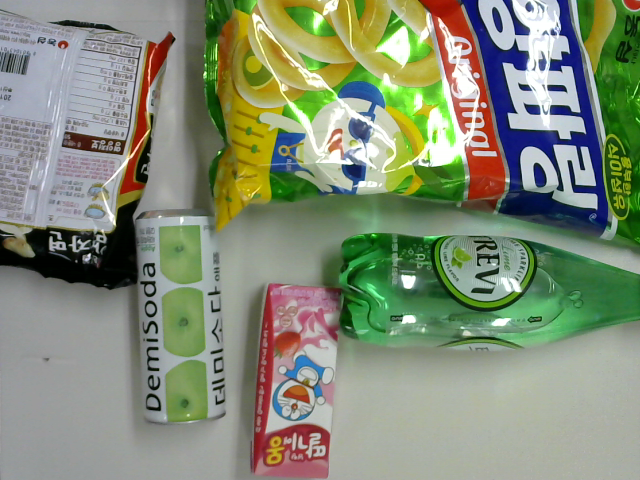Demisoda_Apple_Can_250ml: (133, 211, 228, 426)
Oninon_Ring: (202, 1, 639, 251)
Potato: (1, 8, 175, 290)
Strawberry_E_Mong: (251, 284, 346, 480)
Treviraim_500ml: (340, 233, 640, 352)
